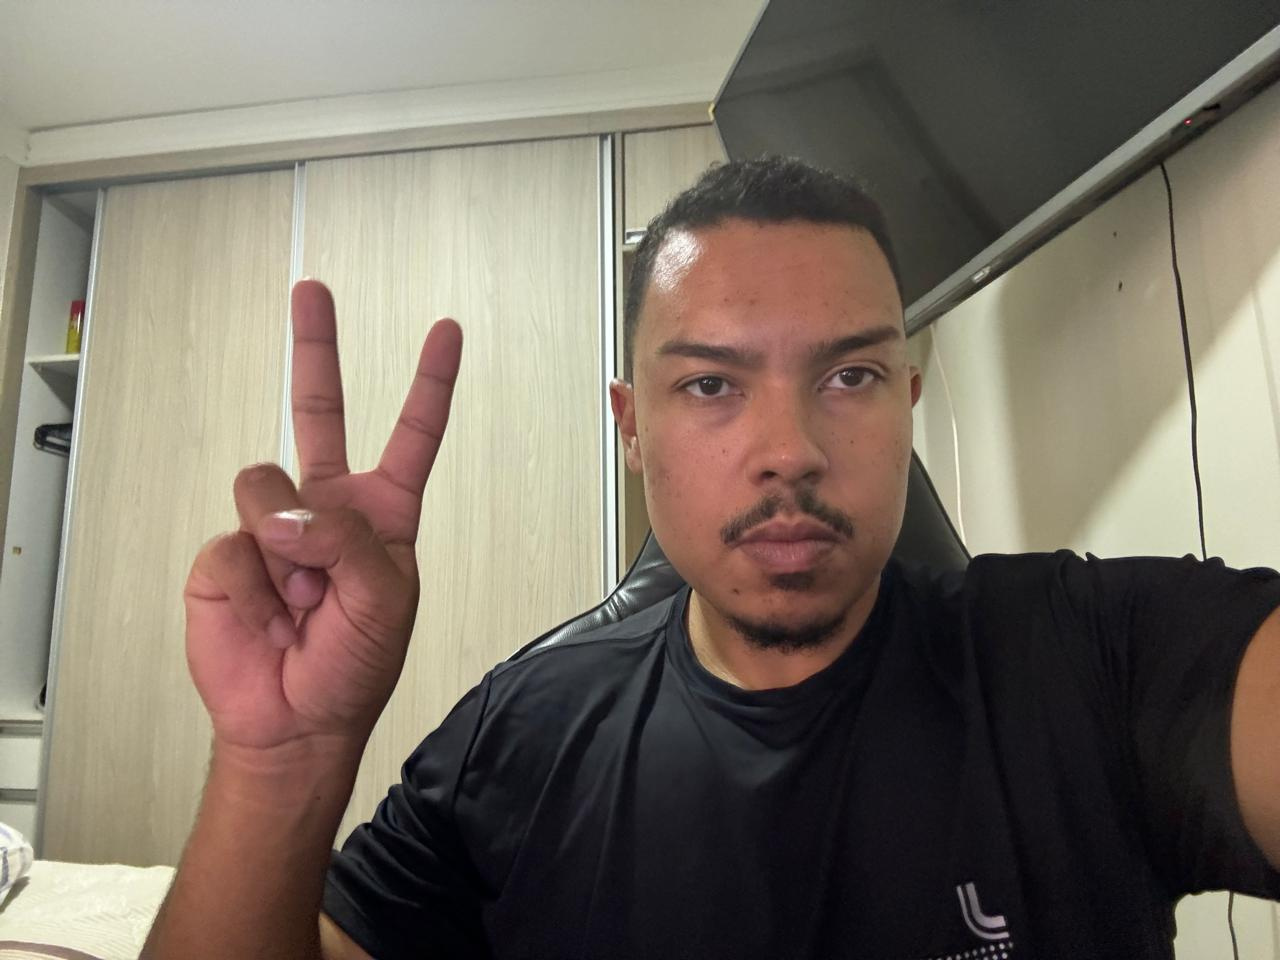v: (183, 274, 464, 753)
